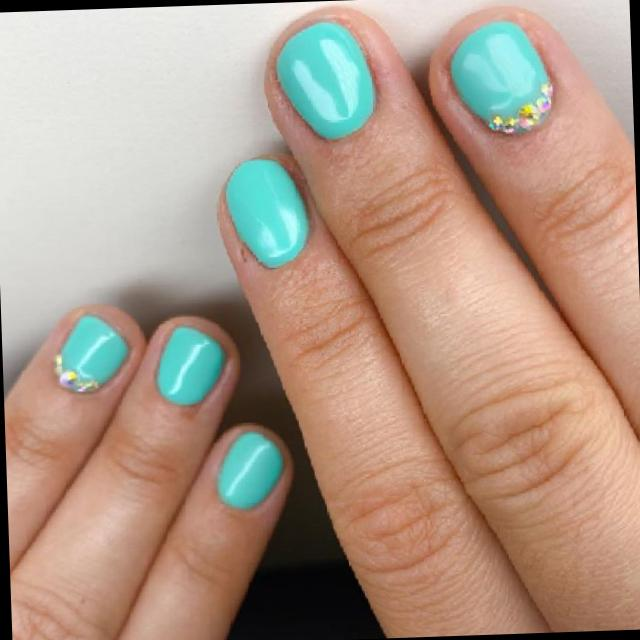Nail: (275, 22, 374, 138), (450, 21, 552, 132), (224, 158, 308, 266), (54, 314, 127, 391), (156, 326, 224, 403), (215, 431, 283, 508)
